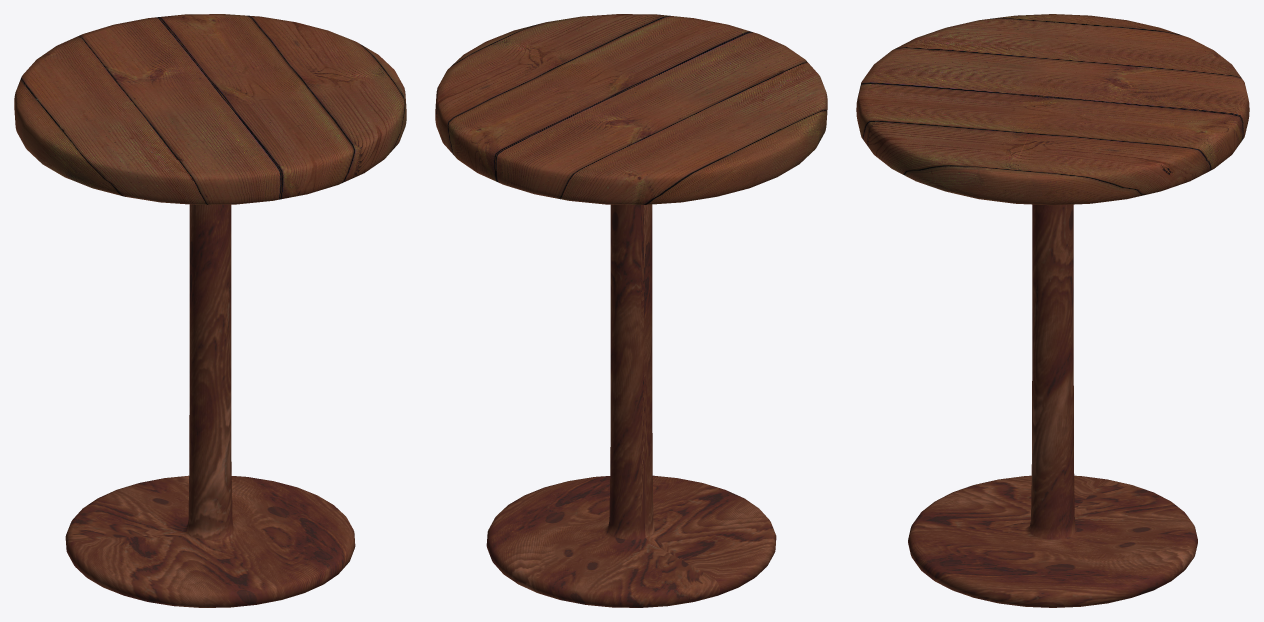
File: round_table_1.glb
The picture shows the model from 3 angles, left to right: view 1: azimuth 30°, elevation 25°; view 2: azimuth 150°, elevation 25°; view 3: azimuth 270°, elevation 25°; orthographic projection.
Visible parts, largest first — view 1: Table; view 2: Table; view 3: Table.
Part boxes in pixels (box(x1,y1,x2,y2)): Table: box(14, 14, 406, 607); Table: box(435, 14, 827, 607); Table: box(856, 14, 1249, 607).
Size of the model in its own units: 1.26 by 1.62 by 1.26.
2 materials, 2 textured.
